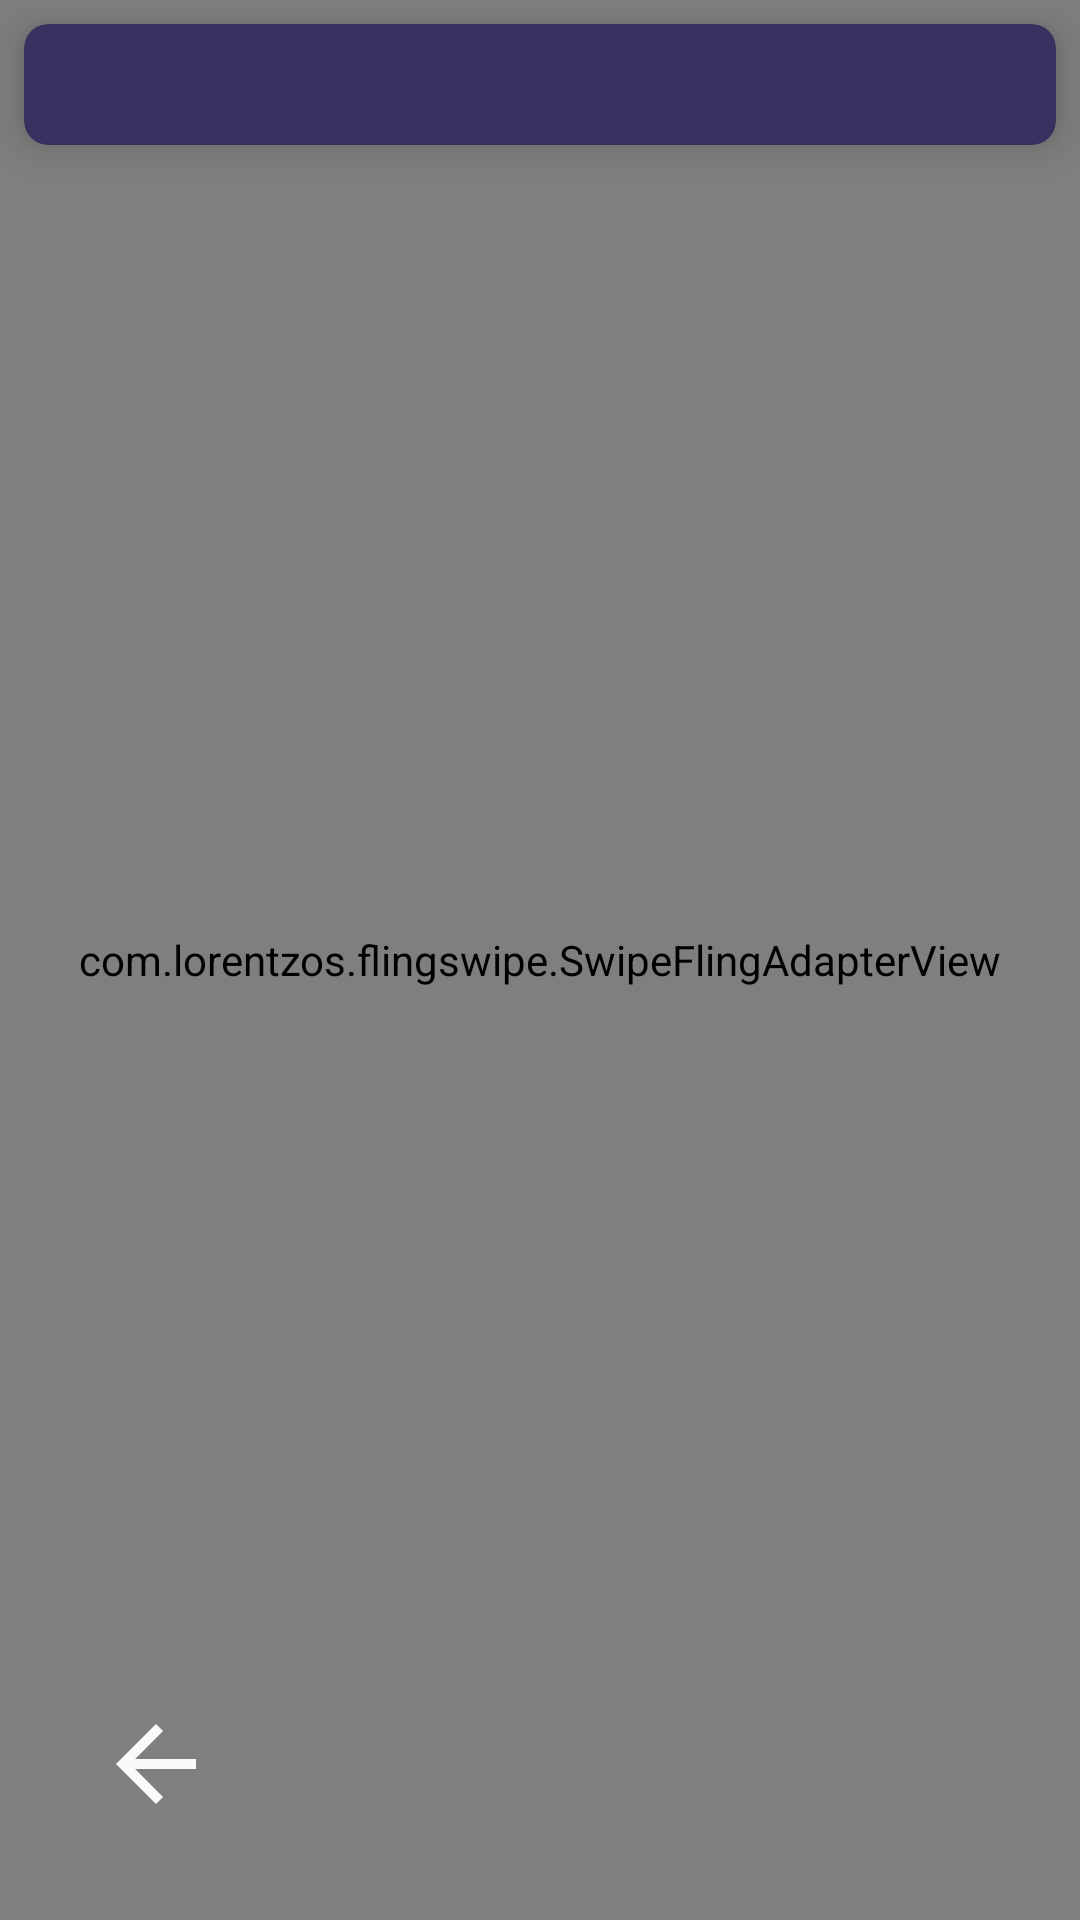

Point at icon controls on the screen. Image size 1080*1920, points as (x=x, y=y).
previous: (x=156, y=1764)
